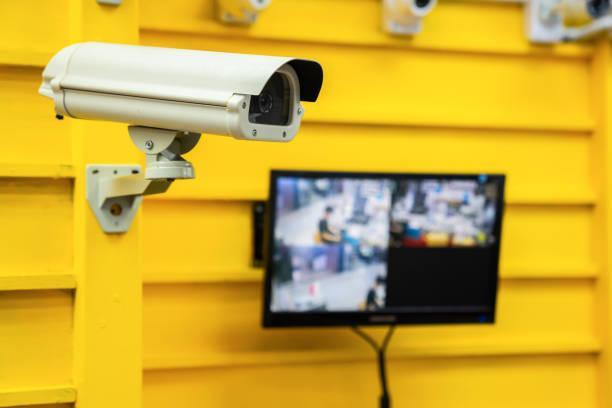camera: (29, 24, 332, 168)
